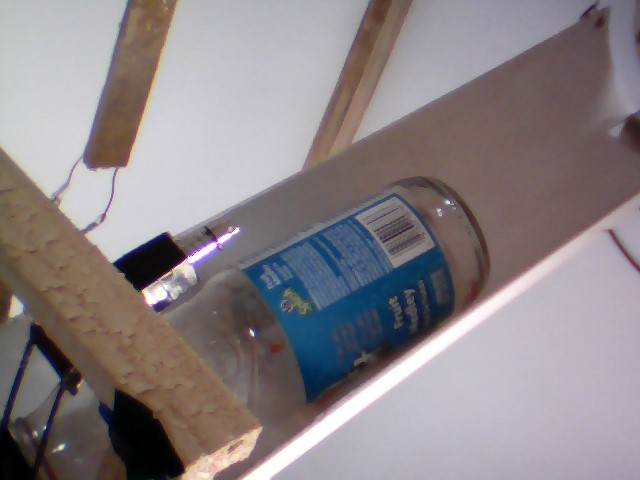vidrio: (183, 170, 498, 428)
